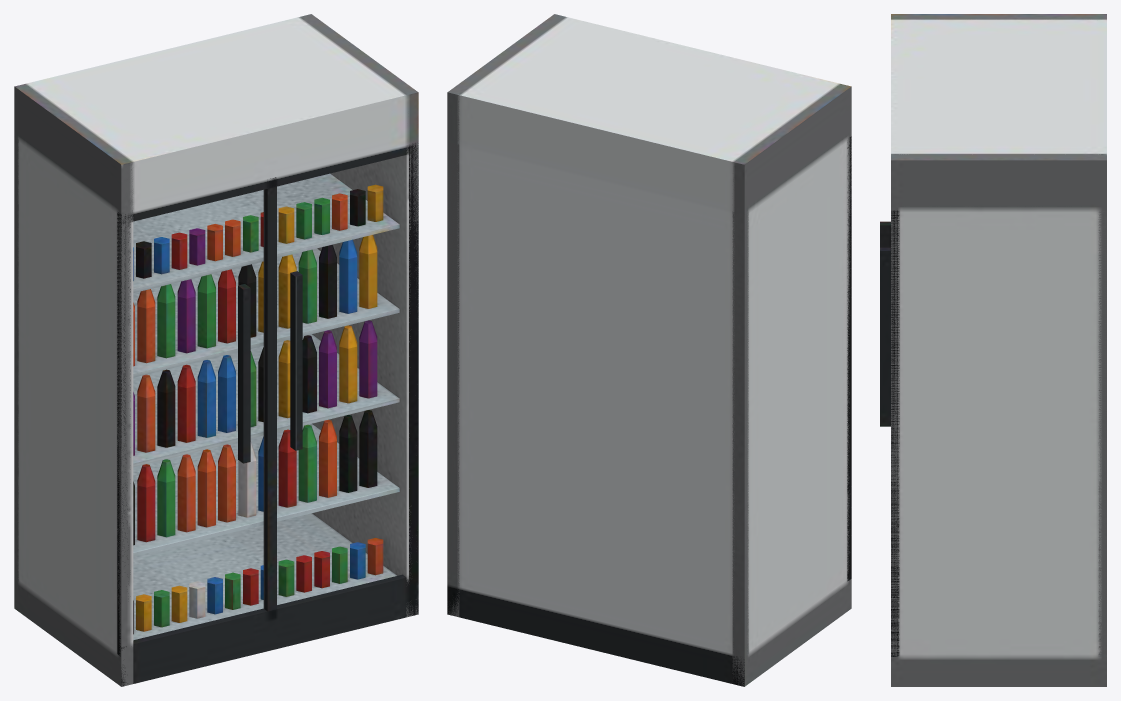
The model's file is lodowka.glb.
3 views of the same model, side by side, from view 1: azimuth 30°, elevation 25°; view 2: azimuth 150°, elevation 25°; view 3: azimuth 270°, elevation 25° (orthographic).
Parts seen in each view (by area): view 1: lodowka; view 2: lodowka; view 3: lodowka.
Boxes of the visible parts, left/top/right/bottom form: lodowka: left=14, top=14, right=418, bottom=686; lodowka: left=447, top=14, right=851, bottom=686; lodowka: left=880, top=14, right=1106, bottom=686.
Bounding box in the file's own units: 1.25 × 2.1 × 0.82.
Materials: 1 (1 with a texture image).
